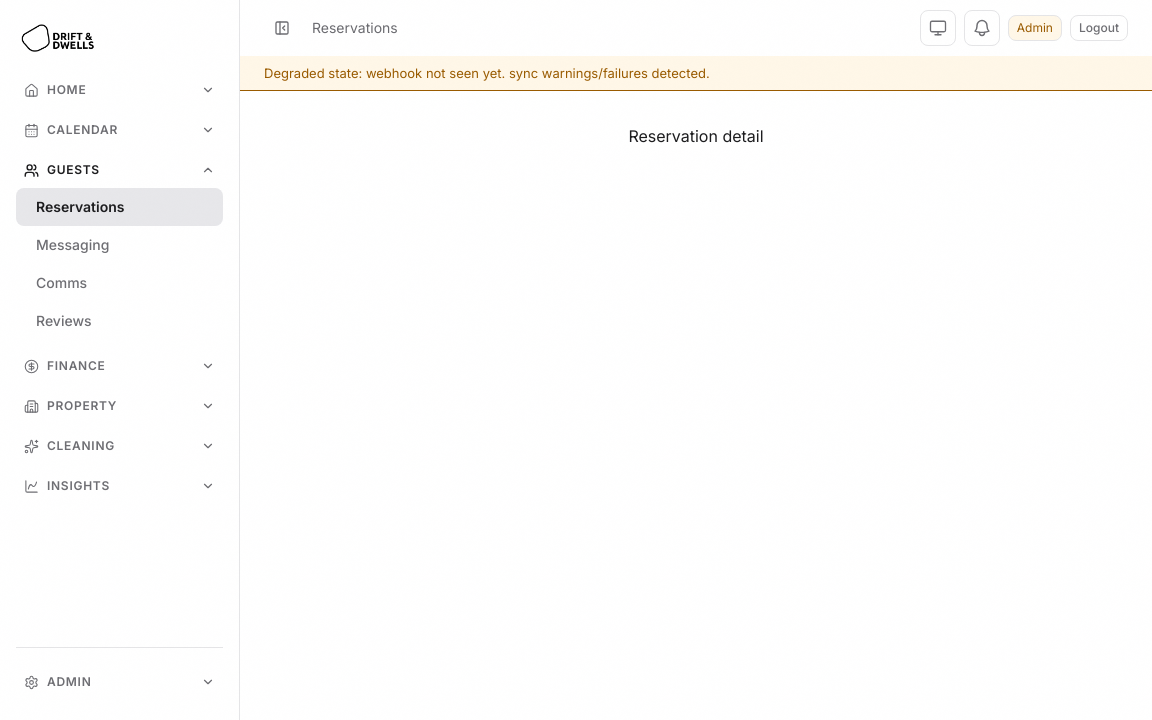
Scenario: OpsLayout desktop/mobile/cleaner shell › renders the expanded desktop shell at 1280px without a permanent push strip
Expected: the header with test id "ops-topbar" is shown, [240,0,1151,56]
Expected: the text with test id "ops-topbar-context" reads "Reservations", [312,19,398,36]
What coordinates should you click on to do the following:
click the button with test id "ops-notification-bell"
I would click on:
 (982, 28)
Its box is [964,10,1000,46].
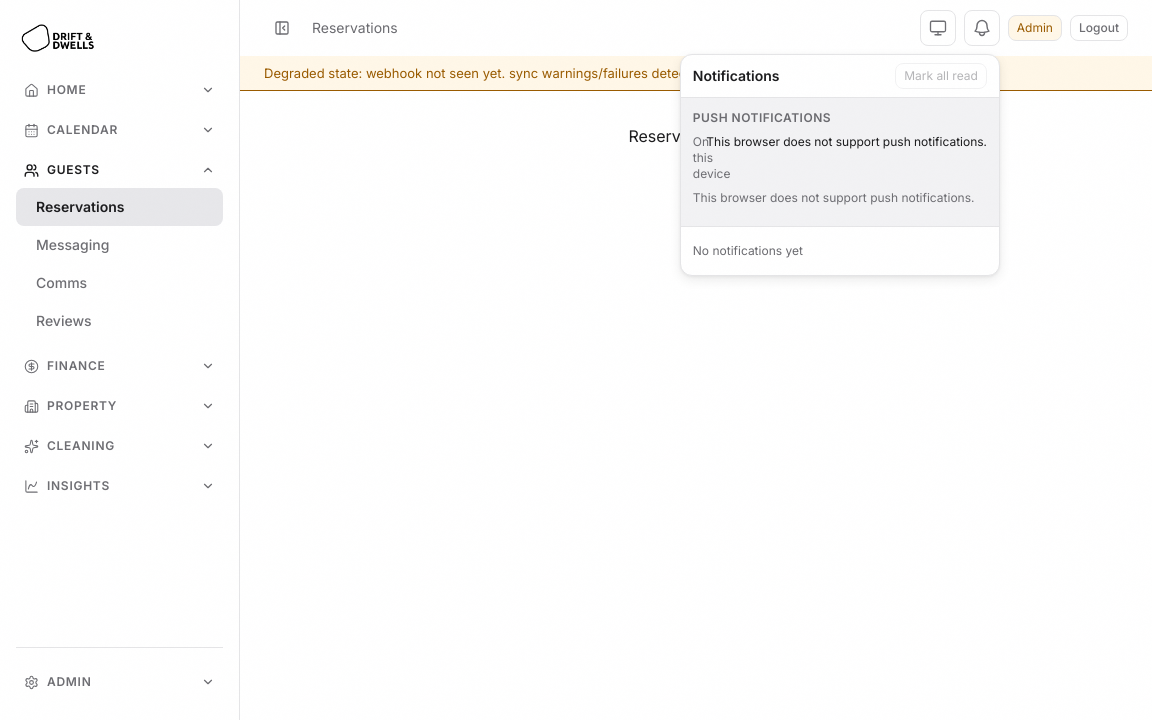
Expected: the element with test id "ops-notification-push-section" is shown, [681,98,999,227]
Expected: the element with test id "ops-push-panel" is shown, [681,98,999,226]
